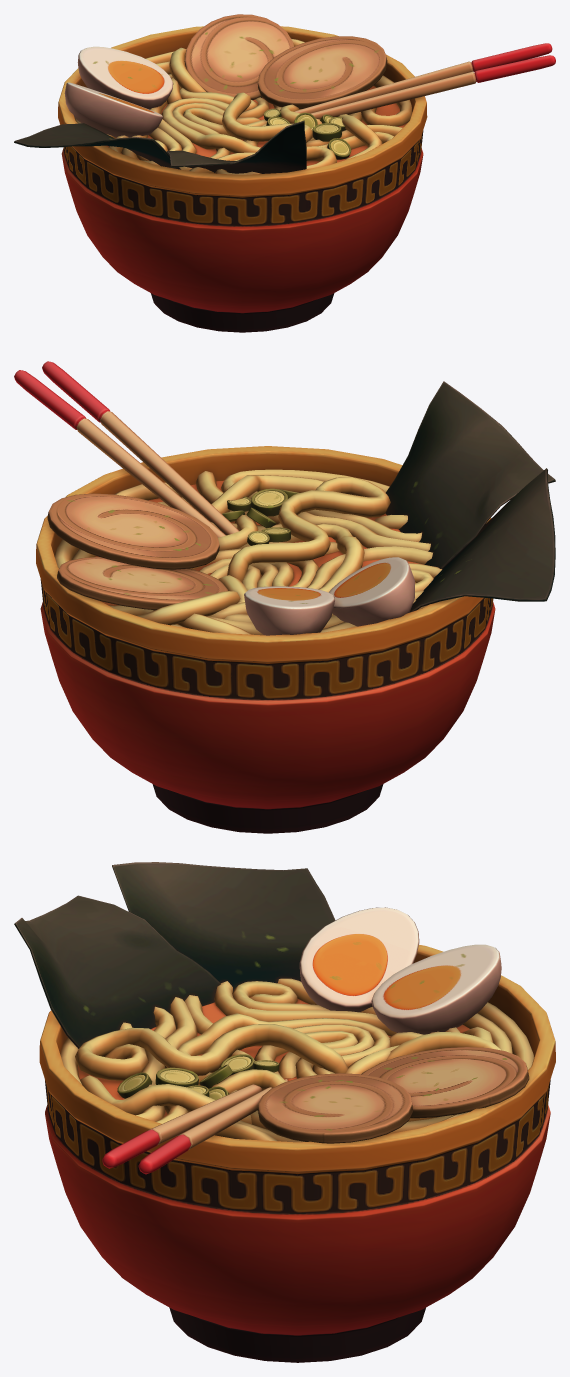
3 renders of one model, top to bottom at view 1: azimuth 30°, elevation 25°; view 2: azimuth 150°, elevation 25°; view 3: azimuth 270°, elevation 25°, orthographic. The views are drawn at different scales.
Parts seen in each view (by area): view 1: RamenBowl; view 2: RamenBowl; view 3: RamenBowl.
Boxes of the visible parts, left/top/right/bottom form: RamenBowl: left=14, top=14, right=555, bottom=332; RamenBowl: left=14, top=361, right=555, bottom=833; RamenBowl: left=14, top=862, right=555, bottom=1362.
Size of the model in its own units: 0.3243 by 0.1668 by 0.2267.
Materials: 1 (1 with a texture image).
